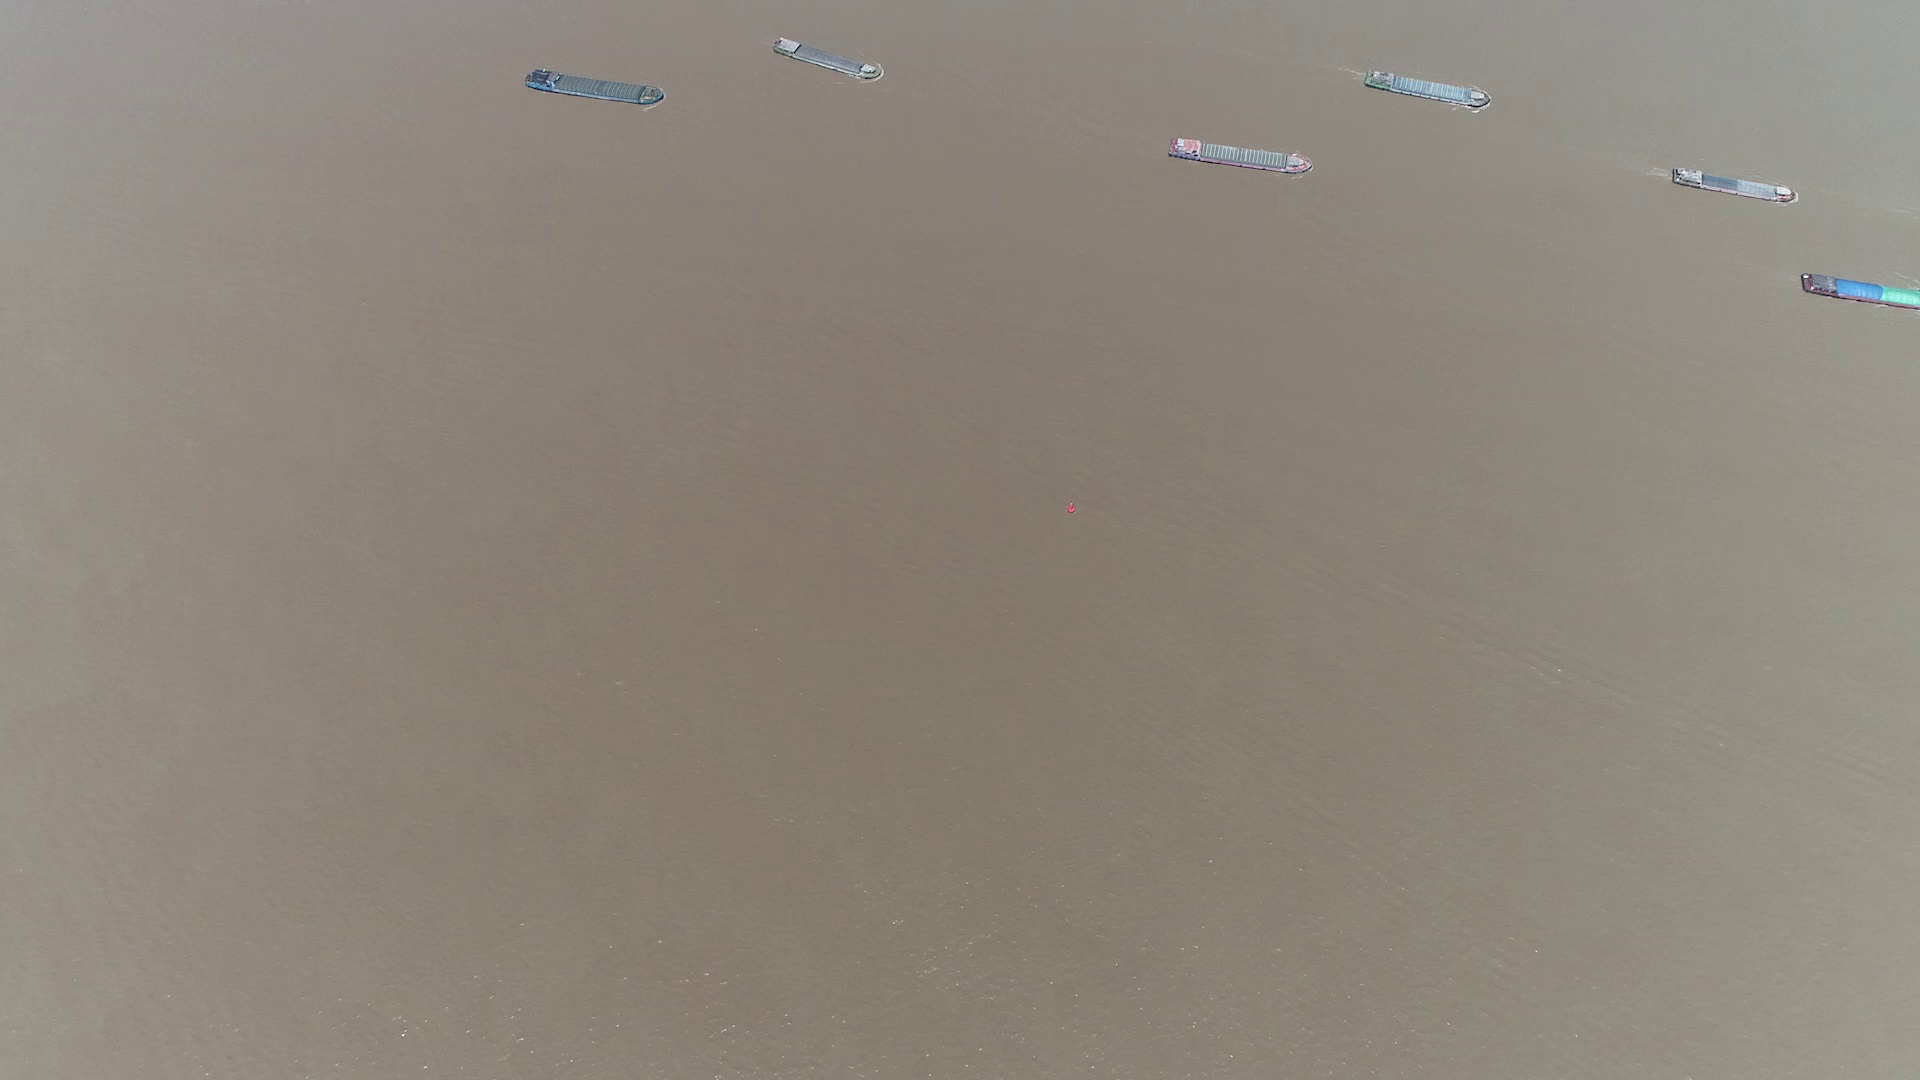ship: (1166, 135, 1313, 174), (1364, 67, 1491, 111), (526, 69, 665, 108), (771, 36, 884, 83), (1800, 272, 1920, 311), (1669, 165, 1795, 202)
